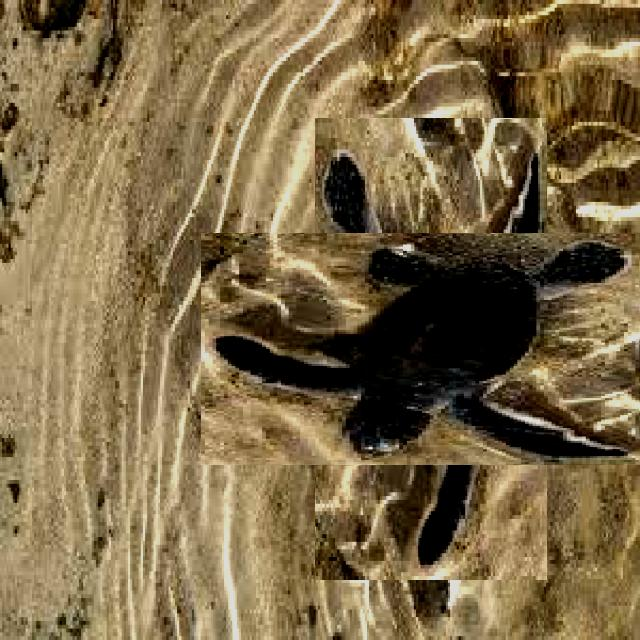Sea turtle: (258, 176, 604, 522)
